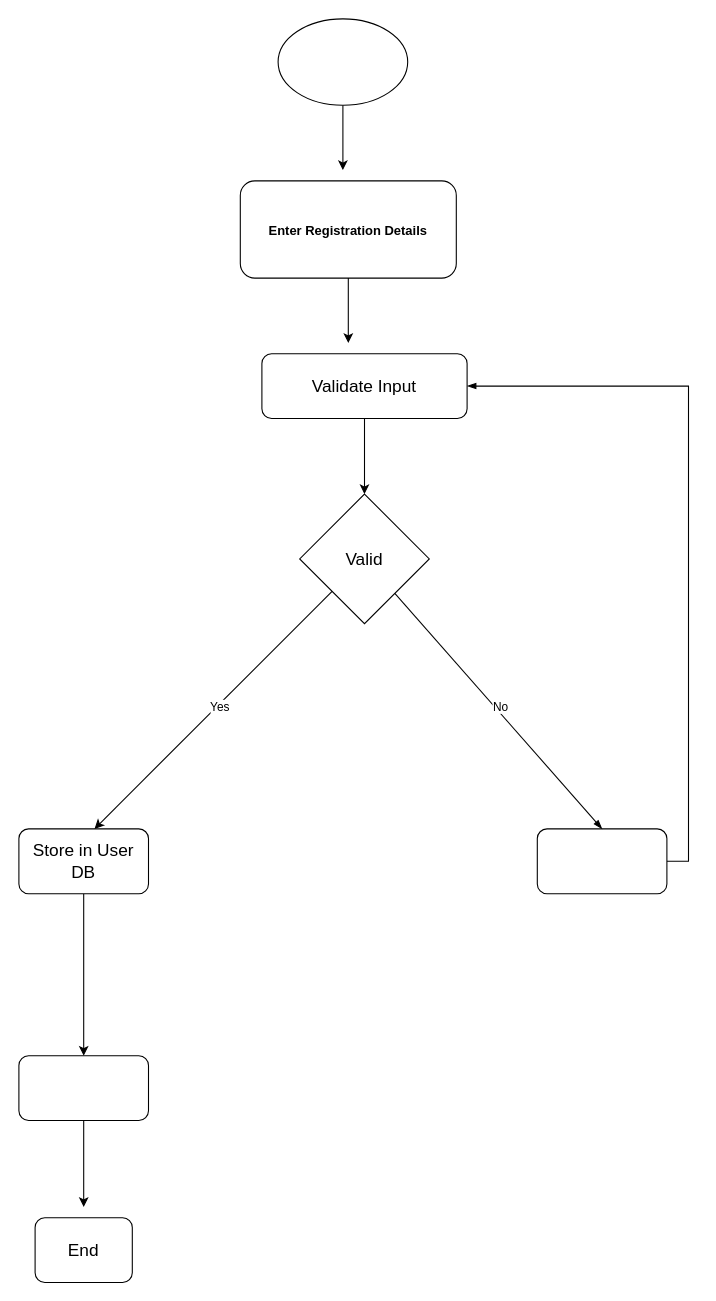
This 716x1301 diagram has some shape labels left out. The centre of each missing label's shape, as x and y in pixels:
"Registration successful" belongs at (x=83, y=1087).
"Show Error" belongs at (x=601, y=861).
"Start" belongs at (x=342, y=61).
